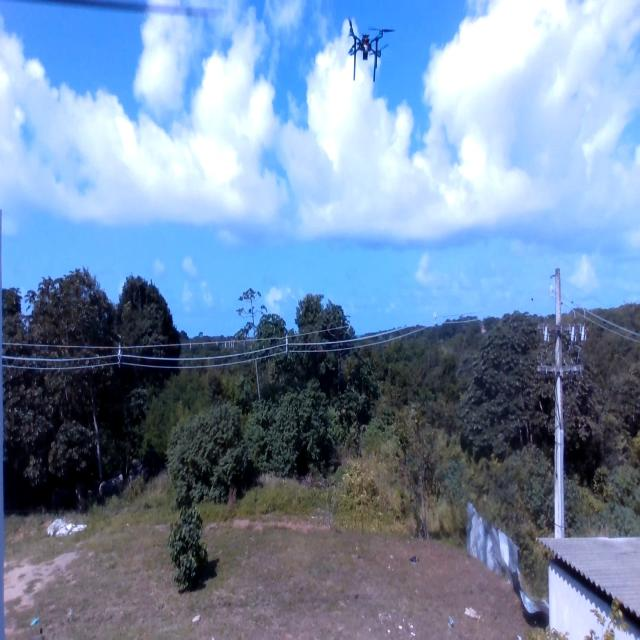-uav-: (339, 8, 399, 90)
